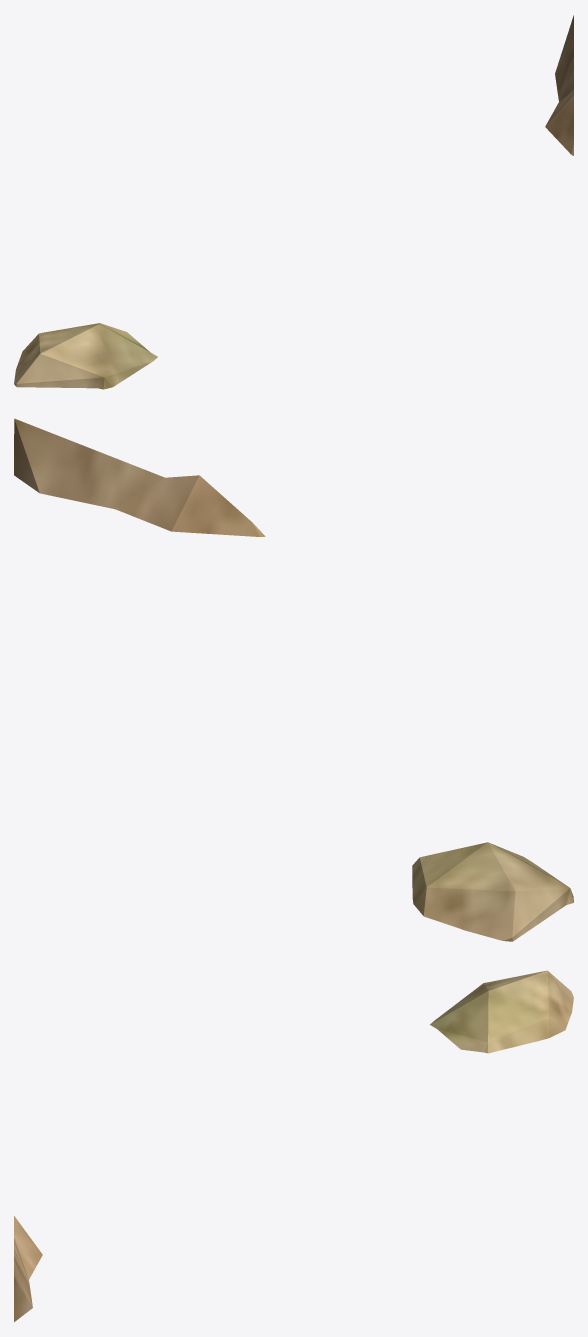
The picture shows the model from 3 angles, top to bottom: view 1: azimuth 90°, elevation 25°; view 2: azimuth 150°, elevation 25°; view 3: azimuth 270°, elevation 25°; orthographic projection. The views are drawn at different scales.
Bounding box in the file's own units: 1.02 × 0.0649 × 0.7325.
1 material, 1 textured.
